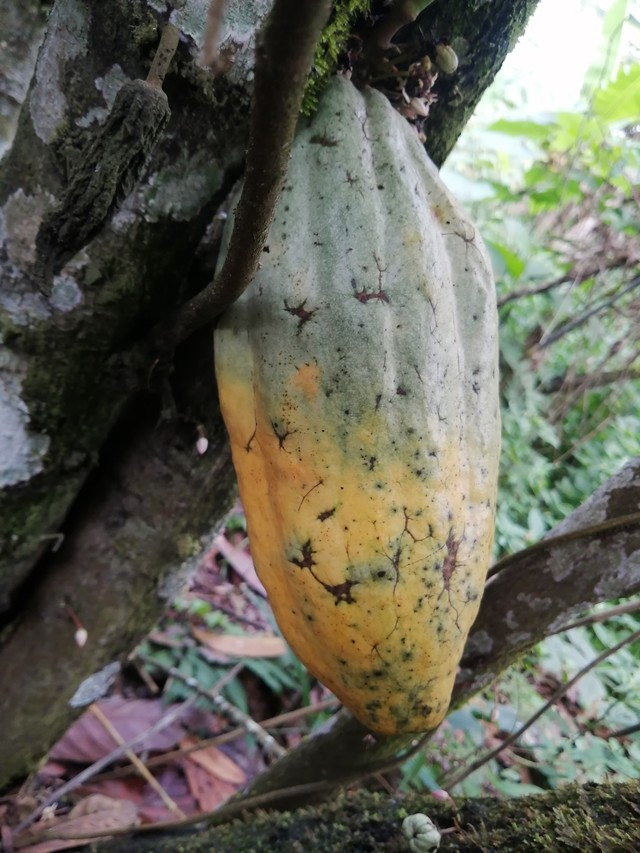moniliophthora perniciosa: (194, 66, 512, 749)
